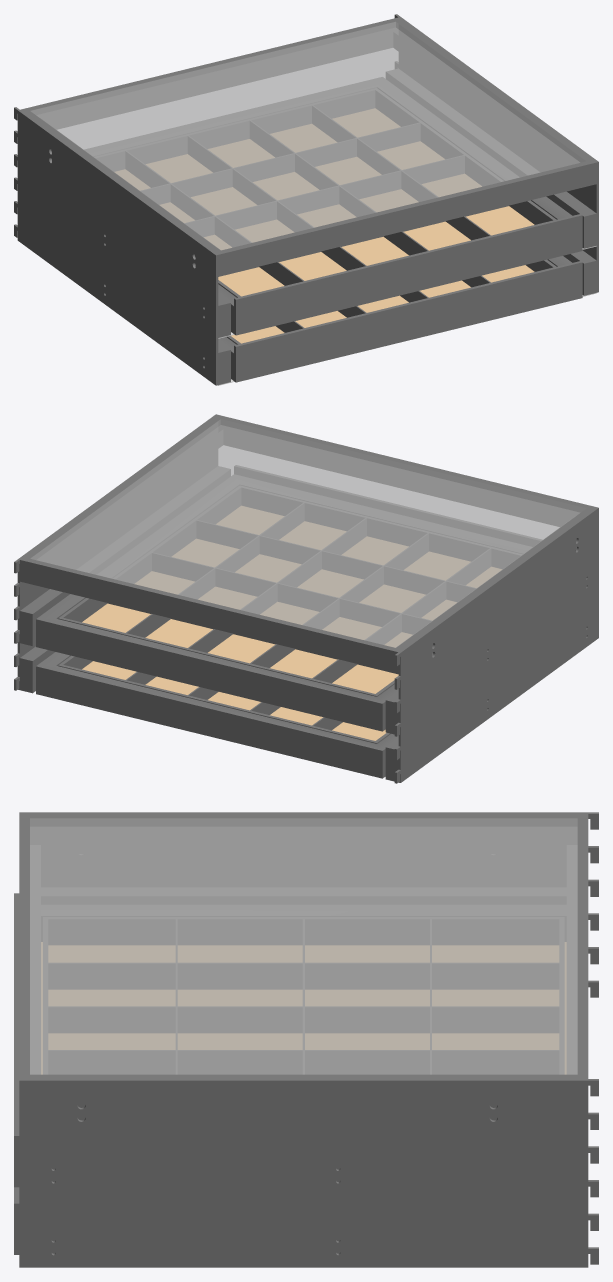
3 renders of one model, top to bottom at view 1: azimuth 30°, elevation 25°; view 2: azimuth 150°, elevation 25°; view 3: azimuth 270°, elevation 25°, orthographic. The views are drawn at different scales.
Parts seen in each view (by area): view 1: Geom3D (×3); view 2: Geom3D (×3); view 3: Geom3D (×3).
Part boxes in pixels (bbox=[...]): Geom3D (×3): bbox=[14, 14, 598, 385]; Geom3D (×3): bbox=[14, 414, 598, 783]; Geom3D (×3): bbox=[14, 812, 598, 1267].
Bounding box in the file's own units: 0.5537 × 0.181 × 0.5103.
